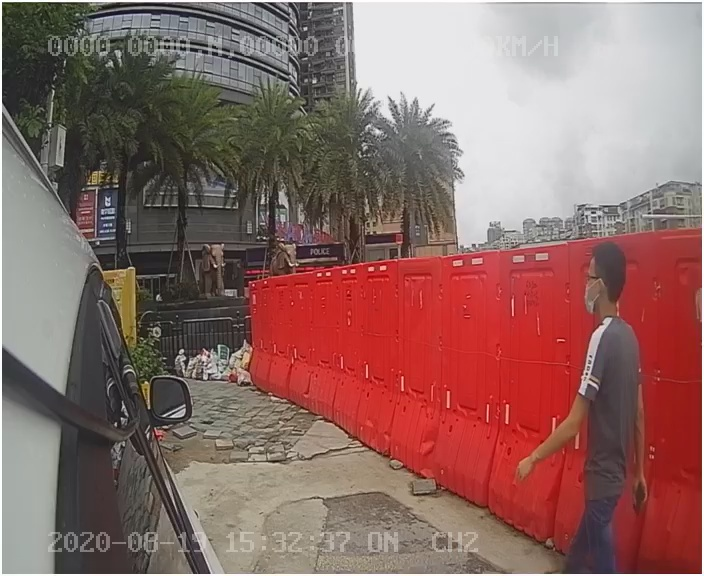person: (509, 238, 672, 556)
